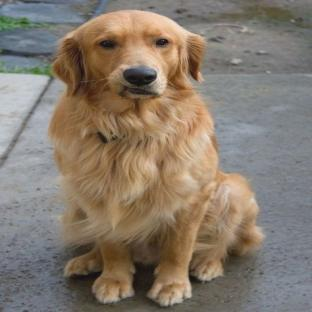Animal: (49, 10, 264, 306)
